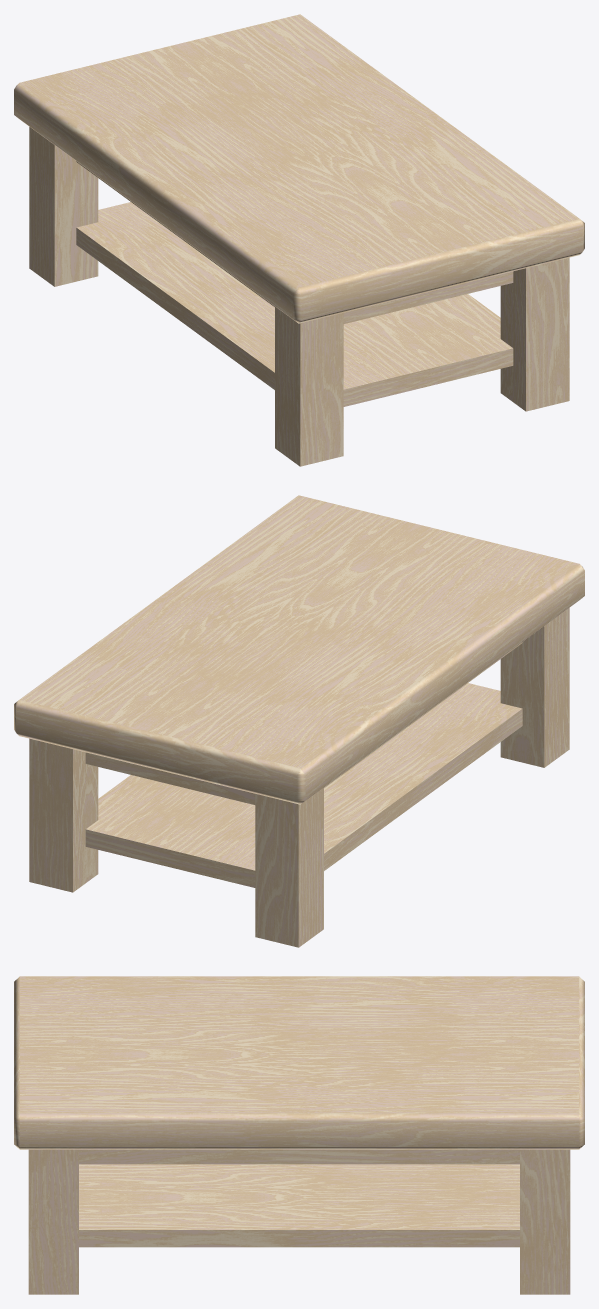
The model's file is coffee_table_013.fbx.
The picture shows the model from 3 angles, top to bottom: view 1: azimuth 30°, elevation 25°; view 2: azimuth 150°, elevation 25°; view 3: azimuth 270°, elevation 25°; orthographic projection.
Parts seen in each view (by area): view 1: coffee_table_013; view 2: coffee_table_013; view 3: coffee_table_013.
Boxes of the visible parts, x1,y1,x2,y2 form: coffee_table_013: (14,14,584,466); coffee_table_013: (14,495,584,947); coffee_table_013: (14,976,584,1294).
Size of the model in its own units: 89.98 by 153 by 54.26.
